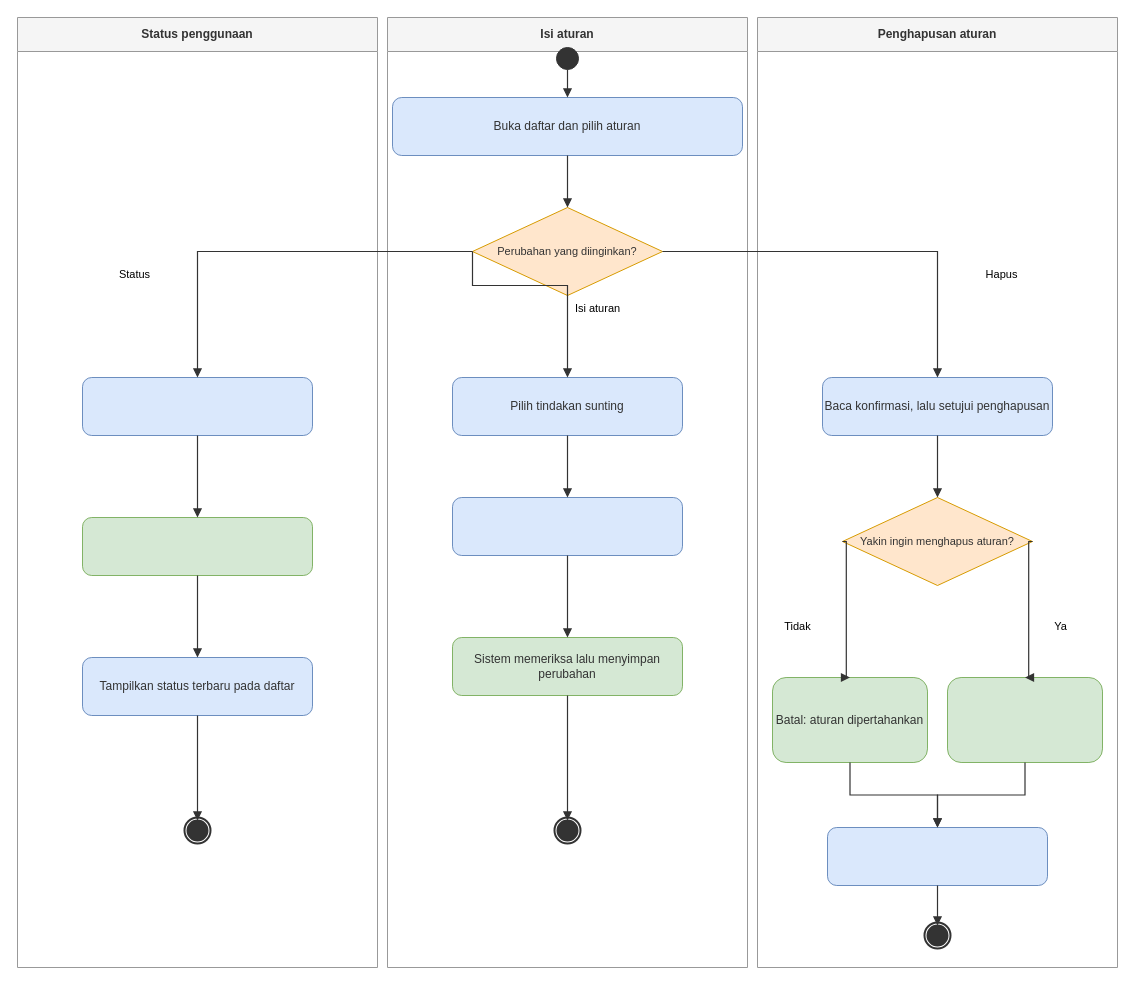
Some shapes in this 1135 by 985 pixel diagram are drawn without their labels. Here are the shapes that lost their labels. From the top down, the centre of each, then its label:
[197,406]: Pilih aktif atau nonaktif
[197,546]: Sistem menyimpan status baru
[567,526]: Ganti gangguan, urutan gejala, atau penjelasan
[1024,719]: Ya: hapus aturan
[937,856]: Kembali ke daftar aturan
